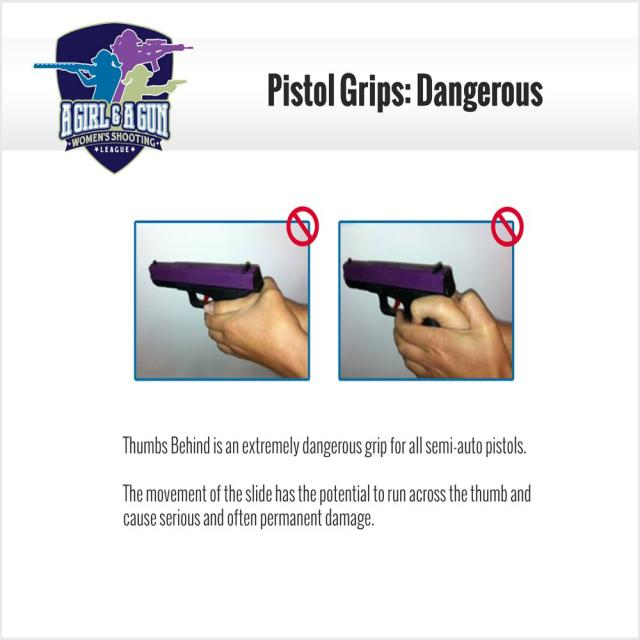HandGun: (343, 259, 456, 327), (148, 261, 264, 309)
